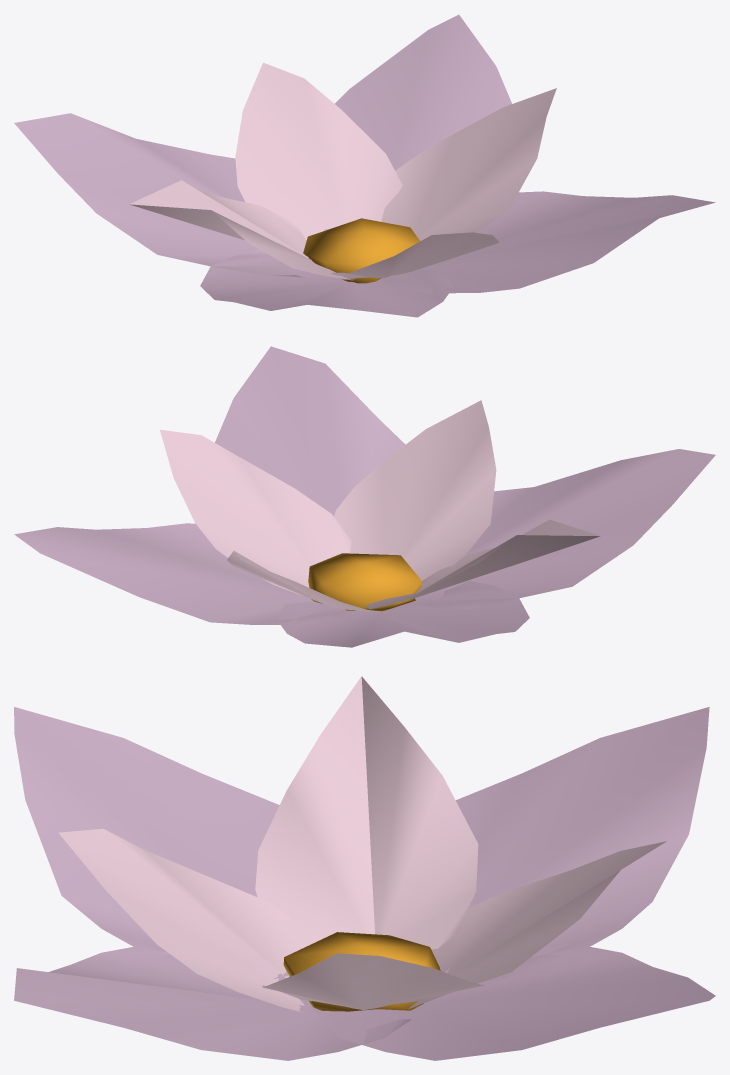
Rendered from flower_pink.glb.
3 views of the same model, one above another, from view 1: azimuth 30°, elevation 25°; view 2: azimuth 150°, elevation 25°; view 3: azimuth 270°, elevation 25° (orthographic). The views are drawn at different scales.
Parts seen in each view (by area): view 1: flower_pink; view 2: flower_pink; view 3: flower_pink.
Part boxes in pixels (x1=…): flower_pink: x1=14, y1=14, x2=715, y2=317; flower_pink: x1=14, y1=346, x2=715, y2=647; flower_pink: x1=14, y1=676, x2=715, y2=1060.
Bounding box in the file's own units: 0.2151 × 0.0596 × 0.2107.
